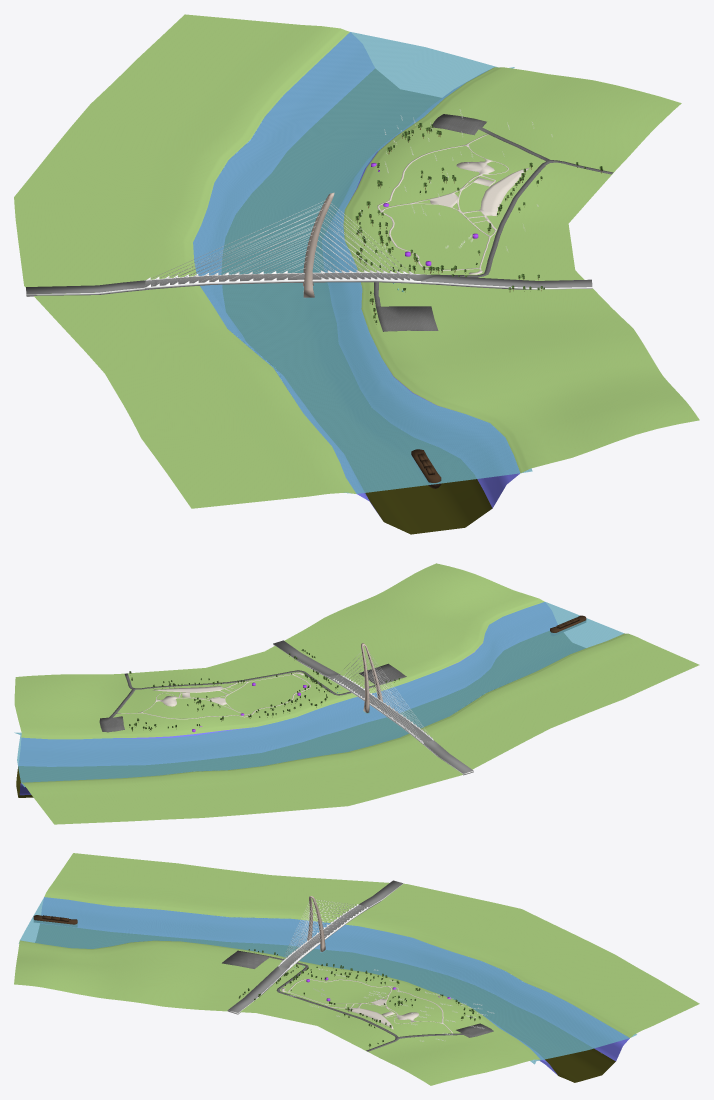
Rendered from Ba Son.glb.
The picture shows the model from 3 angles, top to bottom: view 1: azimuth 30°, elevation 25°; view 2: azimuth 150°, elevation 25°; view 3: azimuth 270°, elevation 25°; orthographic projection. The views are drawn at different scales.
Parts seen in each view (by area): view 1: Ground, Saigon River, caubason, Plane.001, Plane.002, Plane.003; view 2: Ground, Saigon River, caubason, Plane.001, Plane.002, Plane.003; view 3: Ground, Saigon River, caubason, Plane.001, Plane.002, Plane.003.
Part boxes in pixels (x1=…): Ground: x1=14, y1=14, x2=699, y2=534; Saigon River: x1=193, y1=32, x2=532, y2=493; caubason: x1=26, y1=192, x2=592, y2=297; Plane.001: x1=373, y1=114, x2=613, y2=331; Plane.002: x1=377, y1=134, x2=529, y2=274; Plane.003: x1=355, y1=123, x2=602, y2=324; Ground: x1=14, y1=563, x2=699, y2=824; Saigon River: x1=14, y1=602, x2=623, y2=787; caubason: x1=273, y1=640, x2=473, y2=775; Plane.001: x1=99, y1=663, x2=406, y2=732; Plane.002: x1=116, y1=672, x2=310, y2=719; Plane.003: x1=129, y1=649, x2=399, y2=731; Ground: x1=14, y1=853, x2=699, y2=1085; Saigon River: x1=18, y1=897, x2=636, y2=1064; caubason: x1=227, y1=880, x2=403, y2=1014; Plane.001: x1=222, y1=950, x2=493, y2=1051; Plane.002: x1=281, y1=979, x2=452, y2=1033; Plane.003: x1=239, y1=949, x2=480, y2=1046.
Bounding box in the file's own units: 1063 × 186 × 1312.
20 materials, 12 textured.
